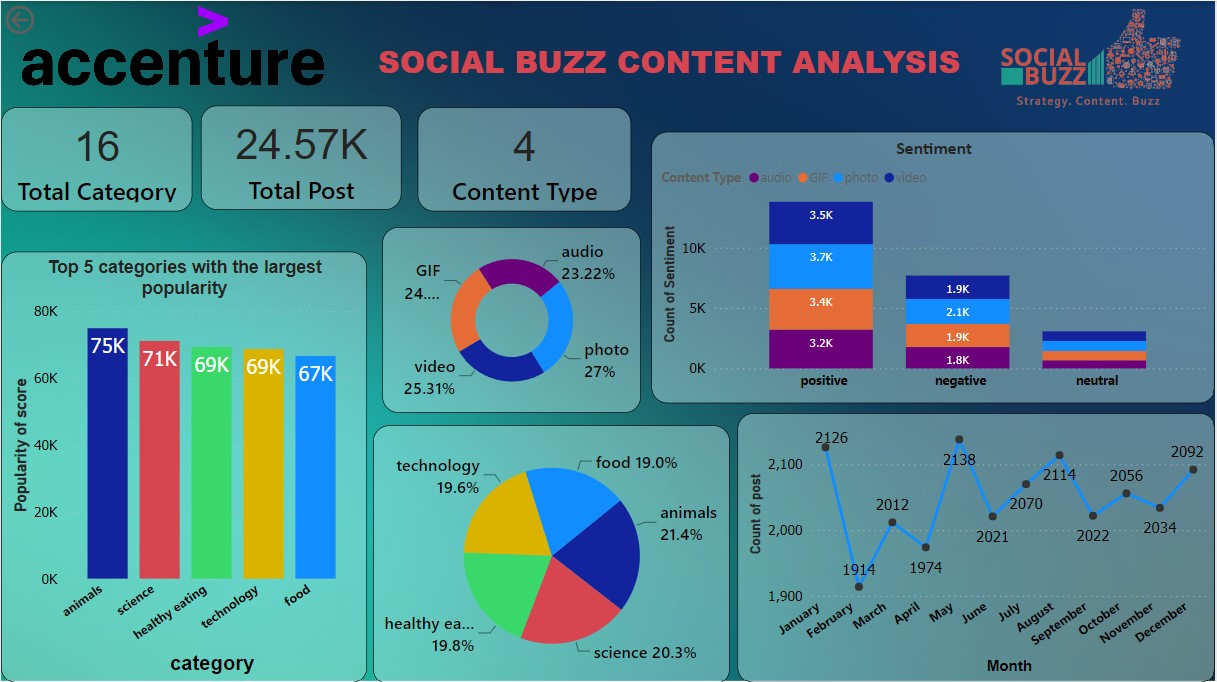

Layout of this report page (visuals, bound fields, positions):
{"tool":"powerbi","page":{"name":"Page 1","canvas":[1280,720],"ordinal":0},"visuals":[{"type":"card","fields":{"Values":["Count(DATA.Category)"]},"box":[0,111.1,201.4,109.7],"z":0},{"type":"card","fields":{"Values":["CountNonNull(DATA.Content ID)"]},"box":[211.1,109.7,211.1,109.7],"z":1000},{"type":"columnChart","title":" Top 5 categories with the largest popularity","fields":{"Category":["DATA.Category"],"Y":["Sum(DATA.Score)"]},"box":[0,264.1,385.6,455.2],"z":2000},{"type":"lineChart","fields":{"Category":["DATA.Datetime.Variation.Date Hierarchy.Month"],"Y":["CountNonNull(DATA.Content ID)"]},"box":[793.6,433.9,486.2,285.3],"z":3000},{"type":"pieChart","fields":{"Category":["DATA.Category"],"Y":["Sum(DATA.Score)"]},"box":[391.7,447.2,393.1,273.6],"z":4000},{"type":"actionButton","box":[0,0,100,40],"z":5000},{"type":"columnChart","title":" Sentiment ","fields":{"Category":["DATA.Sentiment"],"Series":["DATA.Content Type"],"Y":["CountNonNull(DATA.Sentiment)"]},"box":[684.7,137.5,594.4,286.1],"z":6000},{"type":"image","box":[0,0,366.1,94],"z":7000},{"type":"image","box":[1028.7,3.2,239.8,126.4],"z":8000},{"type":"textbox","box":[392,35.6,644.8,58.3],"z":9000},{"type":"card","fields":{"Values":["Count(DATA.Content Type)"]},"box":[438.9,111.1,225,109.7],"z":10000},{"type":"donutChart","fields":{"Category":["DATA.Content Type"],"Y":["Sum(DATA.Score)"]},"box":[401.4,237.5,272.2,195.8],"z":11000}]}

Visuals, with their boxes in screenshot pixels (x1, y1, x2, y2), scaled from the page's 1280x720 canvas onto the 1217x682 screenshot:
card - Count(DATA.Category): 0:105:191:209
card - CountNonNull(DATA.Content ID): 201:104:401:208
" Top 5 categories with the largest popularity" columnChart: 0:250:367:681
lineChart - DATA.Datetime.Variation.Date Hierarchy.Month x CountNonNull(DATA.Content ID): 755:411:1216:681
pieChart - DATA.Category x Sum(DATA.Score): 372:424:746:681
actionButton: 0:0:95:38
" Sentiment " columnChart: 651:130:1216:401
image: 0:0:348:89
image: 978:3:1206:123
textbox: 373:34:986:89
card - Count(DATA.Content Type): 417:105:631:209
donutChart - DATA.Content Type x Sum(DATA.Score): 382:225:640:410
